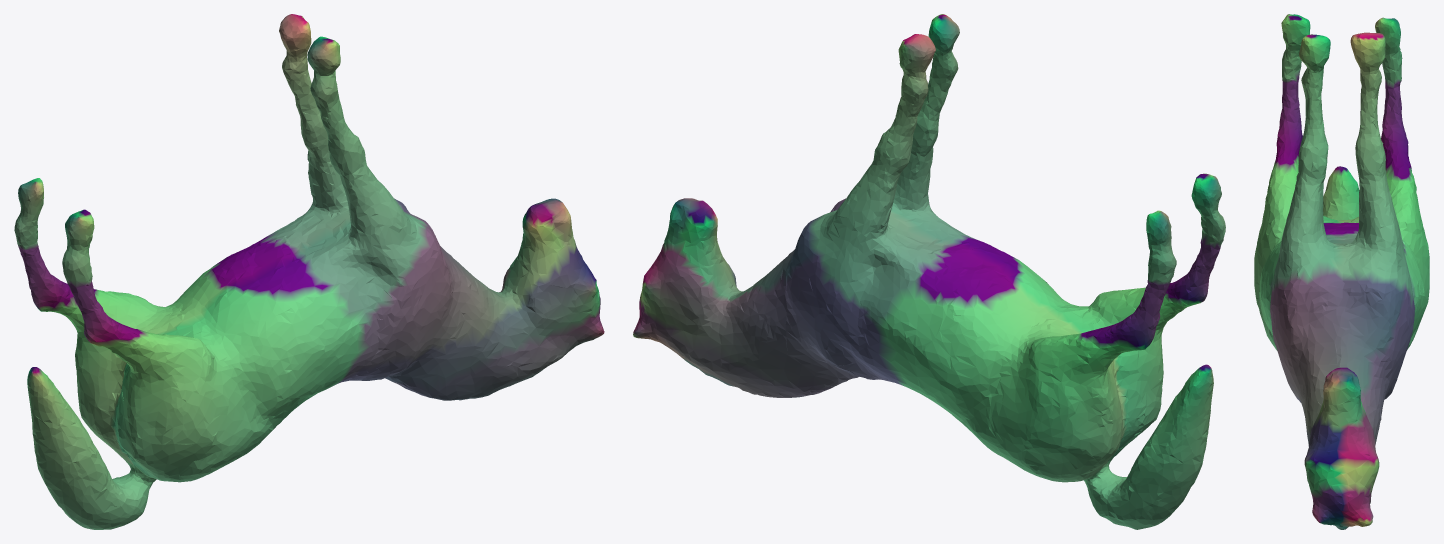
The model's file is horse-15.off.obj.
The picture shows the model from 3 angles, left to right: view 1: azimuth 30°, elevation 25°; view 2: azimuth 150°, elevation 25°; view 3: azimuth 270°, elevation 25°; orthographic projection. The views are drawn at different scales.
Size of the model in its own units: 1.53 by 1.16 by 0.4211.
